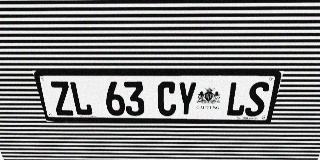3: (123, 81, 144, 116)
6: (103, 81, 126, 116)
C: (157, 81, 177, 116)
L: (68, 81, 93, 116), (225, 82, 250, 116)
S: (244, 82, 270, 116)
Y: (176, 82, 197, 116)
Z: (49, 81, 75, 115)
